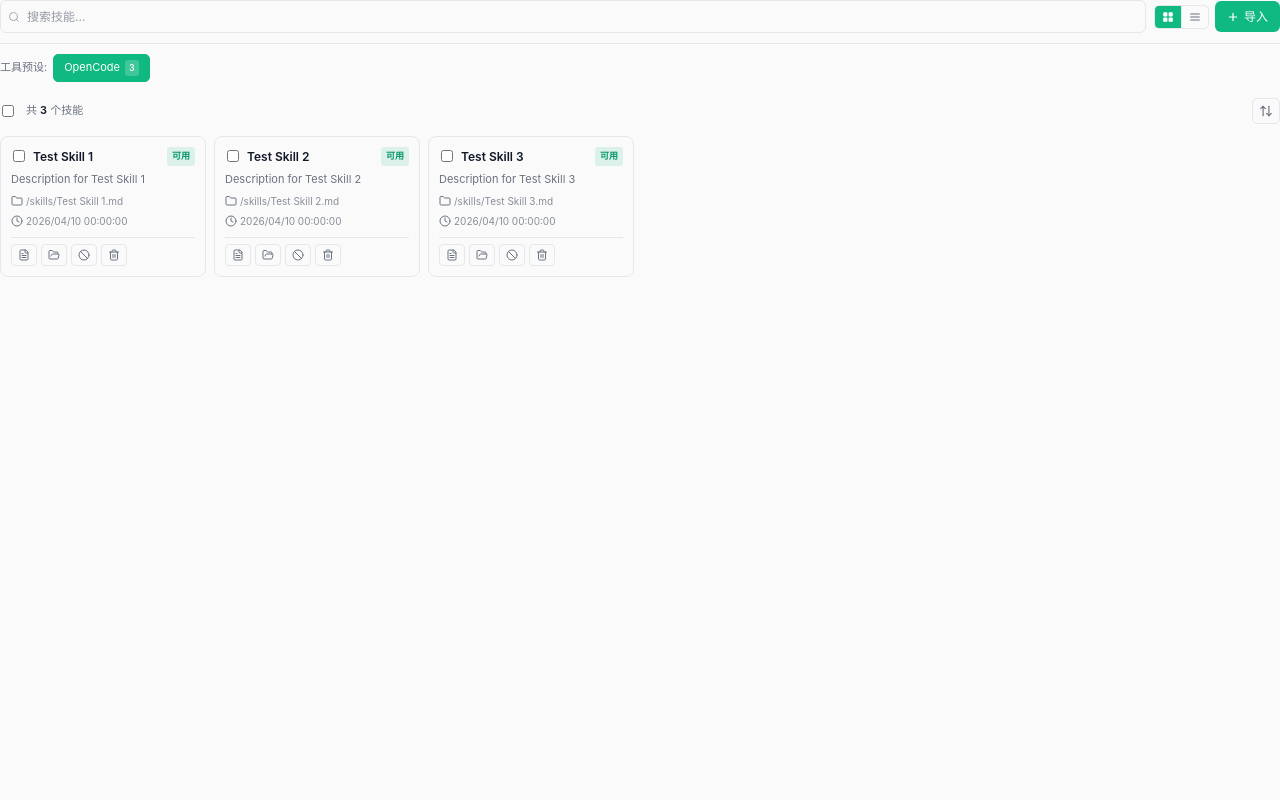
Test case: ProjectSkillList - Delete Confirmation › Single Delete Confirmation › closes dialog without deleting when cancel is clicked
The image size is (1280, 800).
What coordinates should you click on to do the following:
click the button titled "移除" below "/skills/Test Skill 1.md"
I would click on:
 (114, 255)
Its box is [101,244,127,266].
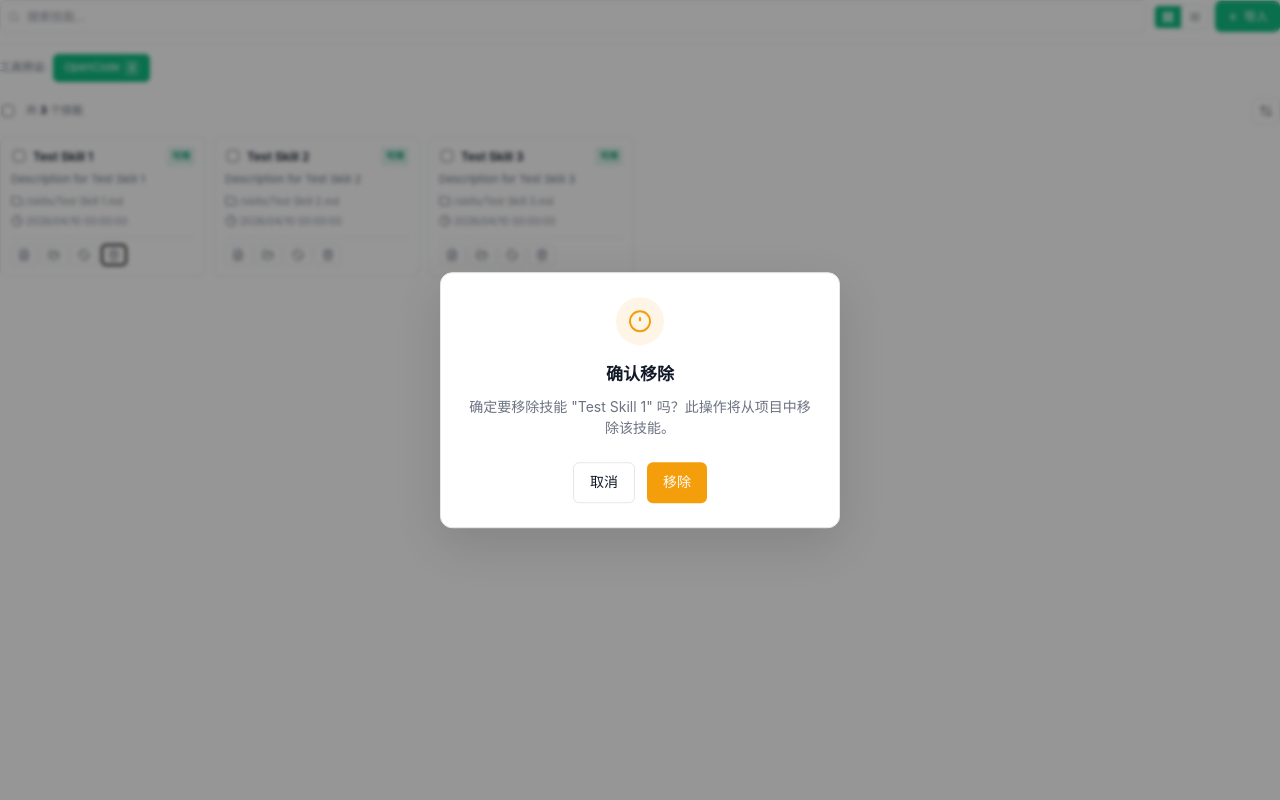
Now the heading "确认移除" is shown, box [606,364,674,384]
What coordinates should you click on to do the following:
click the button "取消"
I would click on:
 (604, 483)
Its box is [573,462,635,503].
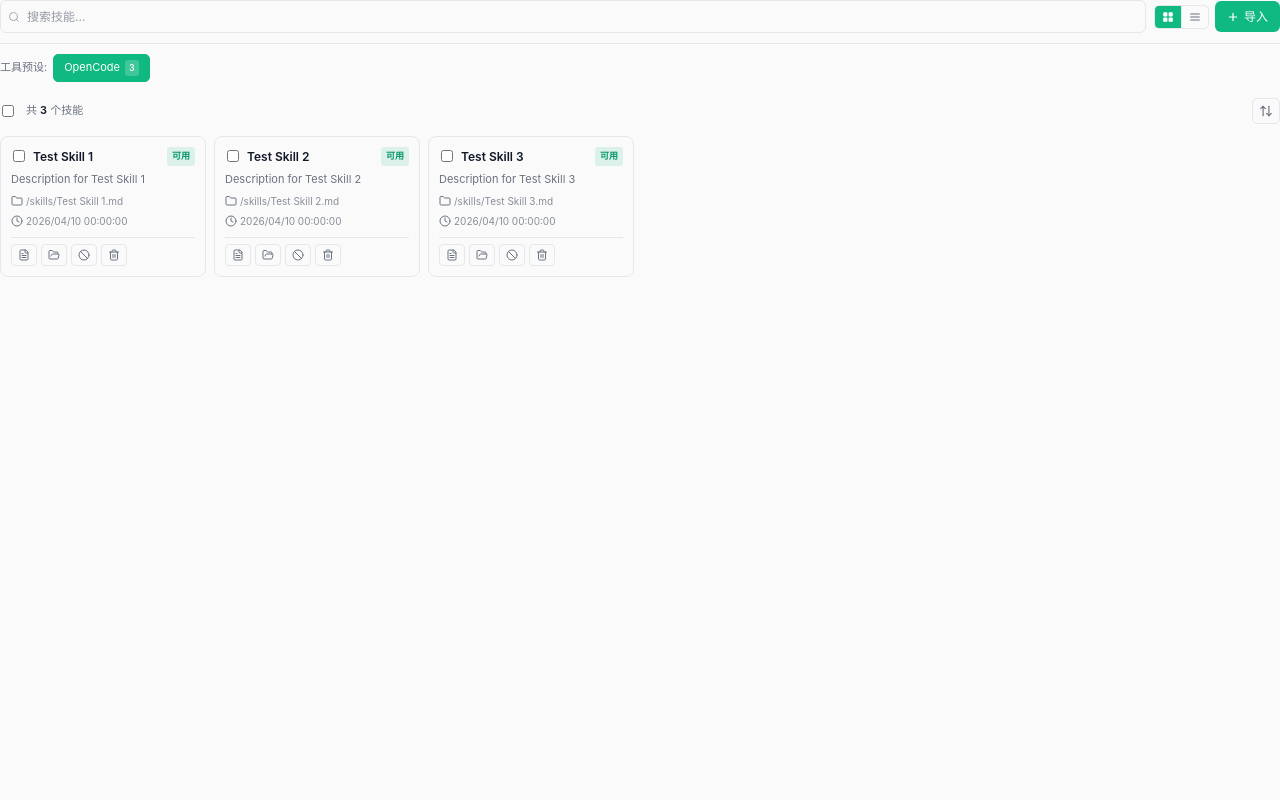
Now the heading "确认移除" is gone
